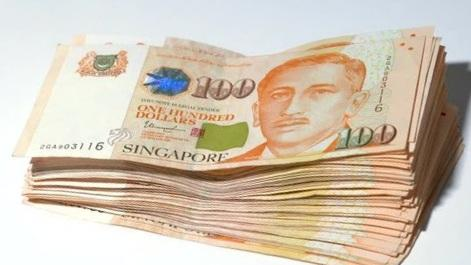100SingaporeDollar: (18, 39, 417, 167)
